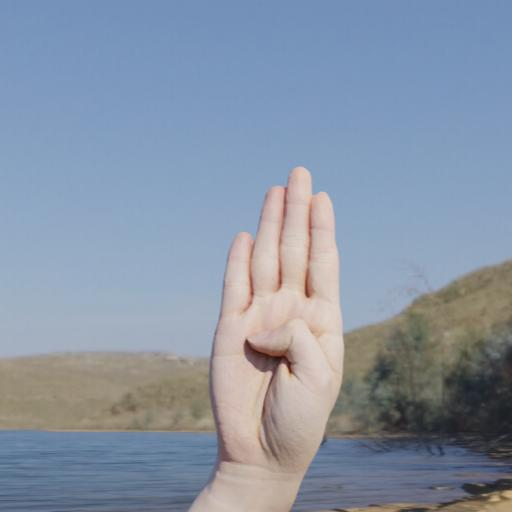B: (209, 166, 346, 482)
